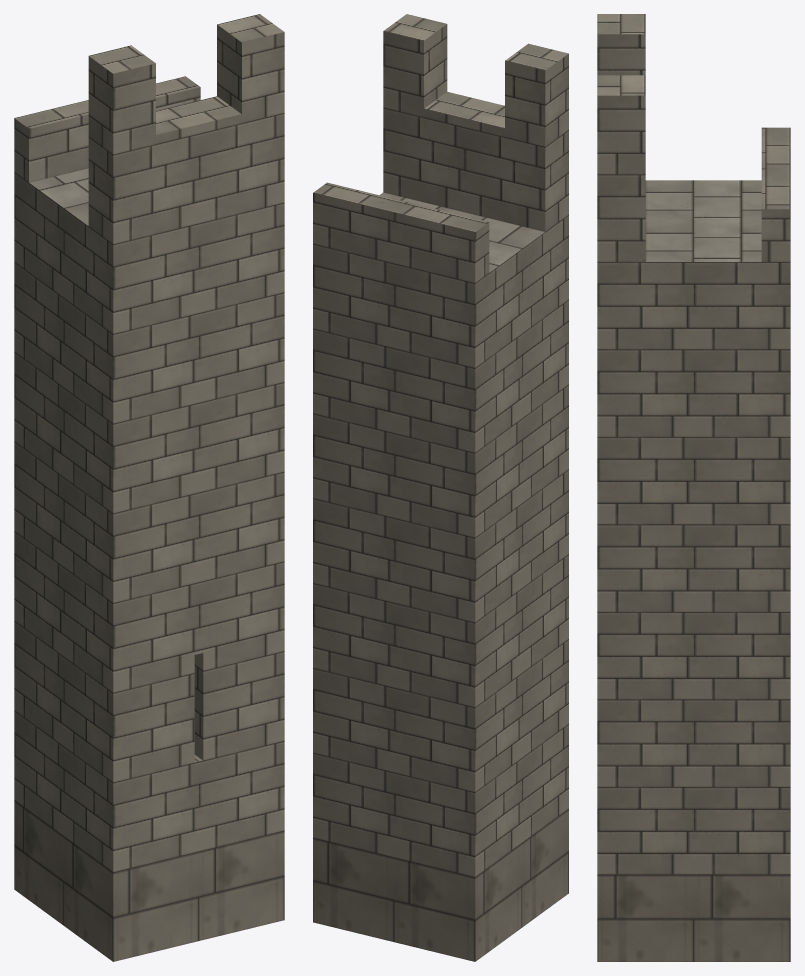
Rendered from curtain_cs_slits.obj.
The picture shows the model from 3 angles, left to right: view 1: azimuth 30°, elevation 25°; view 2: azimuth 150°, elevation 25°; view 3: azimuth 270°, elevation 25°; orthographic projection. The views are drawn at different scales.
Visible parts, largest first — view 1: curtain_cs_slits, curtain_cs_slits_1, curtain_cs_slits_2; view 2: curtain_cs_slits, curtain_cs_slits_1, curtain_cs_slits_2; view 3: curtain_cs_slits, curtain_cs_slits_1, curtain_cs_slits_2.
Boxes of the visible parts, <box> form: curtain_cs_slits: <box>14,168,284,961</box>; curtain_cs_slits_1: <box>88,14,284,244</box>; curtain_cs_slits_2: <box>14,76,200,182</box>; curtain_cs_slits: <box>313,192,568,961</box>; curtain_cs_slits_1: <box>383,14,568,231</box>; curtain_cs_slits_2: <box>313,182,489,282</box>; curtain_cs_slits: <box>597,180,790,961</box>; curtain_cs_slits_1: <box>597,14,645,261</box>; curtain_cs_slits_2: <box>761,127,790,261</box>.
Bounding box in the file's own units: 2 × 9.9 × 2.
Materials: 1 (1 with a texture image).
